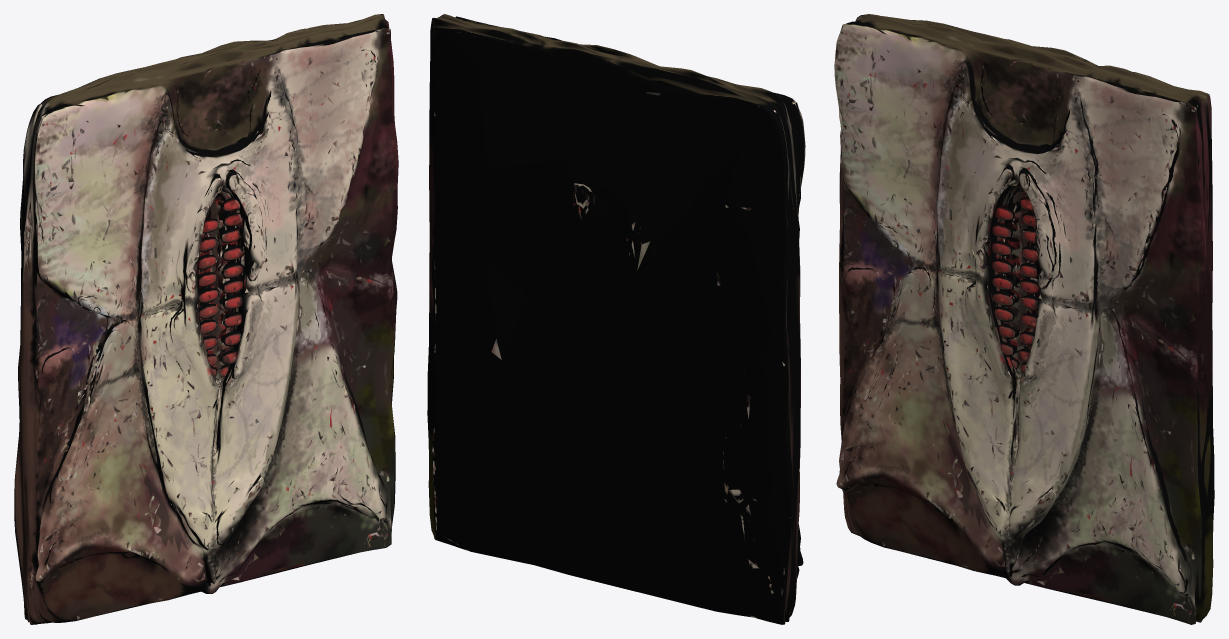
The model's file is bujo.glb.
3 renders of one model, left to right at view 1: azimuth 30°, elevation 25°; view 2: azimuth 150°, elevation 25°; view 3: azimuth 330°, elevation 25°, orthographic.
Visible parts, largest first — view 1: Cube; view 2: Cube; view 3: Cube.
Part boxes in pixels (<box>): Cube: <box>14,14,398,624</box>; Cube: <box>427,14,805,624</box>; Cube: <box>834,14,1214,624</box>.
Bounding box in the file's own units: 6.32 × 8.65 × 0.7072.
1 material, 1 textured.
